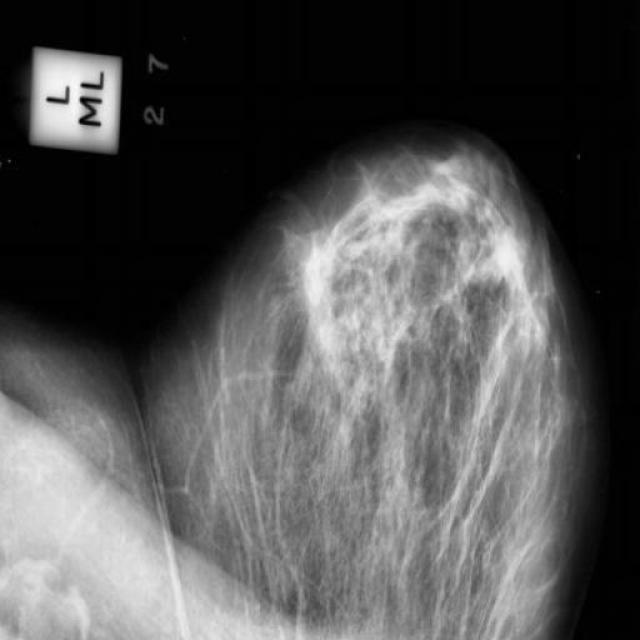cancer: (286, 314, 323, 382)
